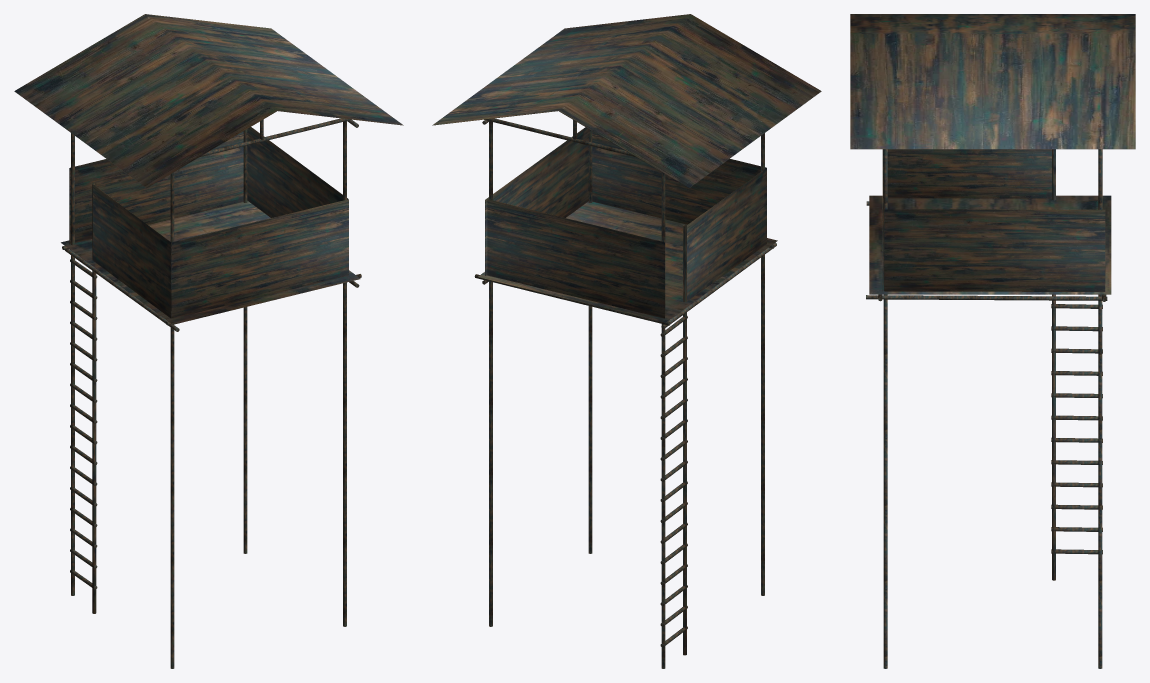
Rendered from bridge-watchtower.zfix-v3.lod0.glb.
The picture shows the model from 3 angles, left to right: view 1: azimuth 30°, elevation 25°; view 2: azimuth 150°, elevation 25°; view 3: azimuth 270°, elevation 25°; orthographic projection. The views are drawn at different scales.
Visible parts, largest first — view 1: Object_2; view 2: Object_2; view 3: Object_2.
Boxes of the visible parts, x1=… form: Object_2: x1=14, y1=14, x2=403, y2=668; Object_2: x1=432, y1=14, x2=821, y2=668; Object_2: x1=850, y1=14, x2=1135, y2=668.
Size of the model in its own units: 5.87 by 12 by 5.24.
Materials: 1 (1 with a texture image).
